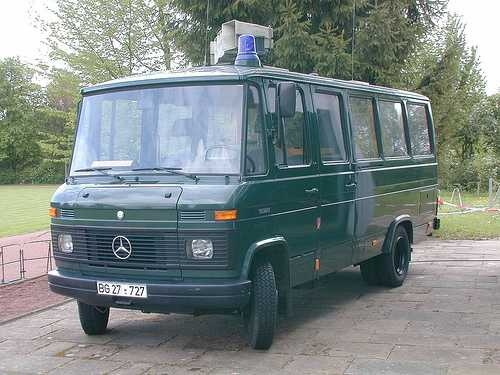Police Van: (42, 34, 452, 338)
